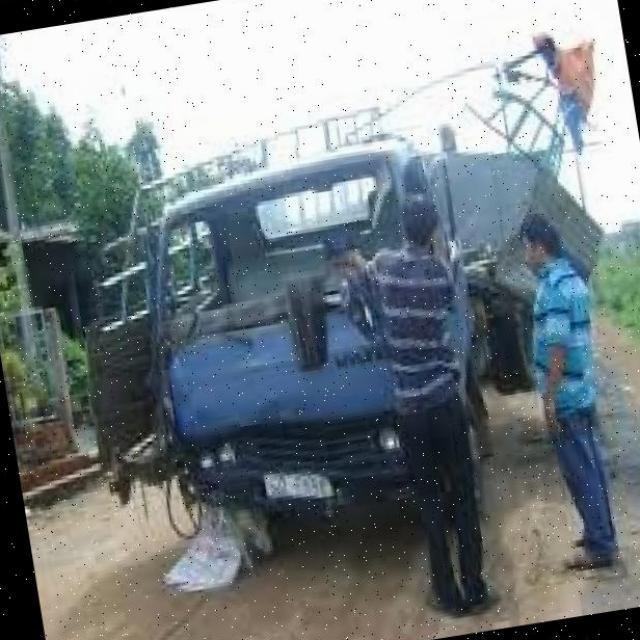accident: (35, 71, 640, 600)
